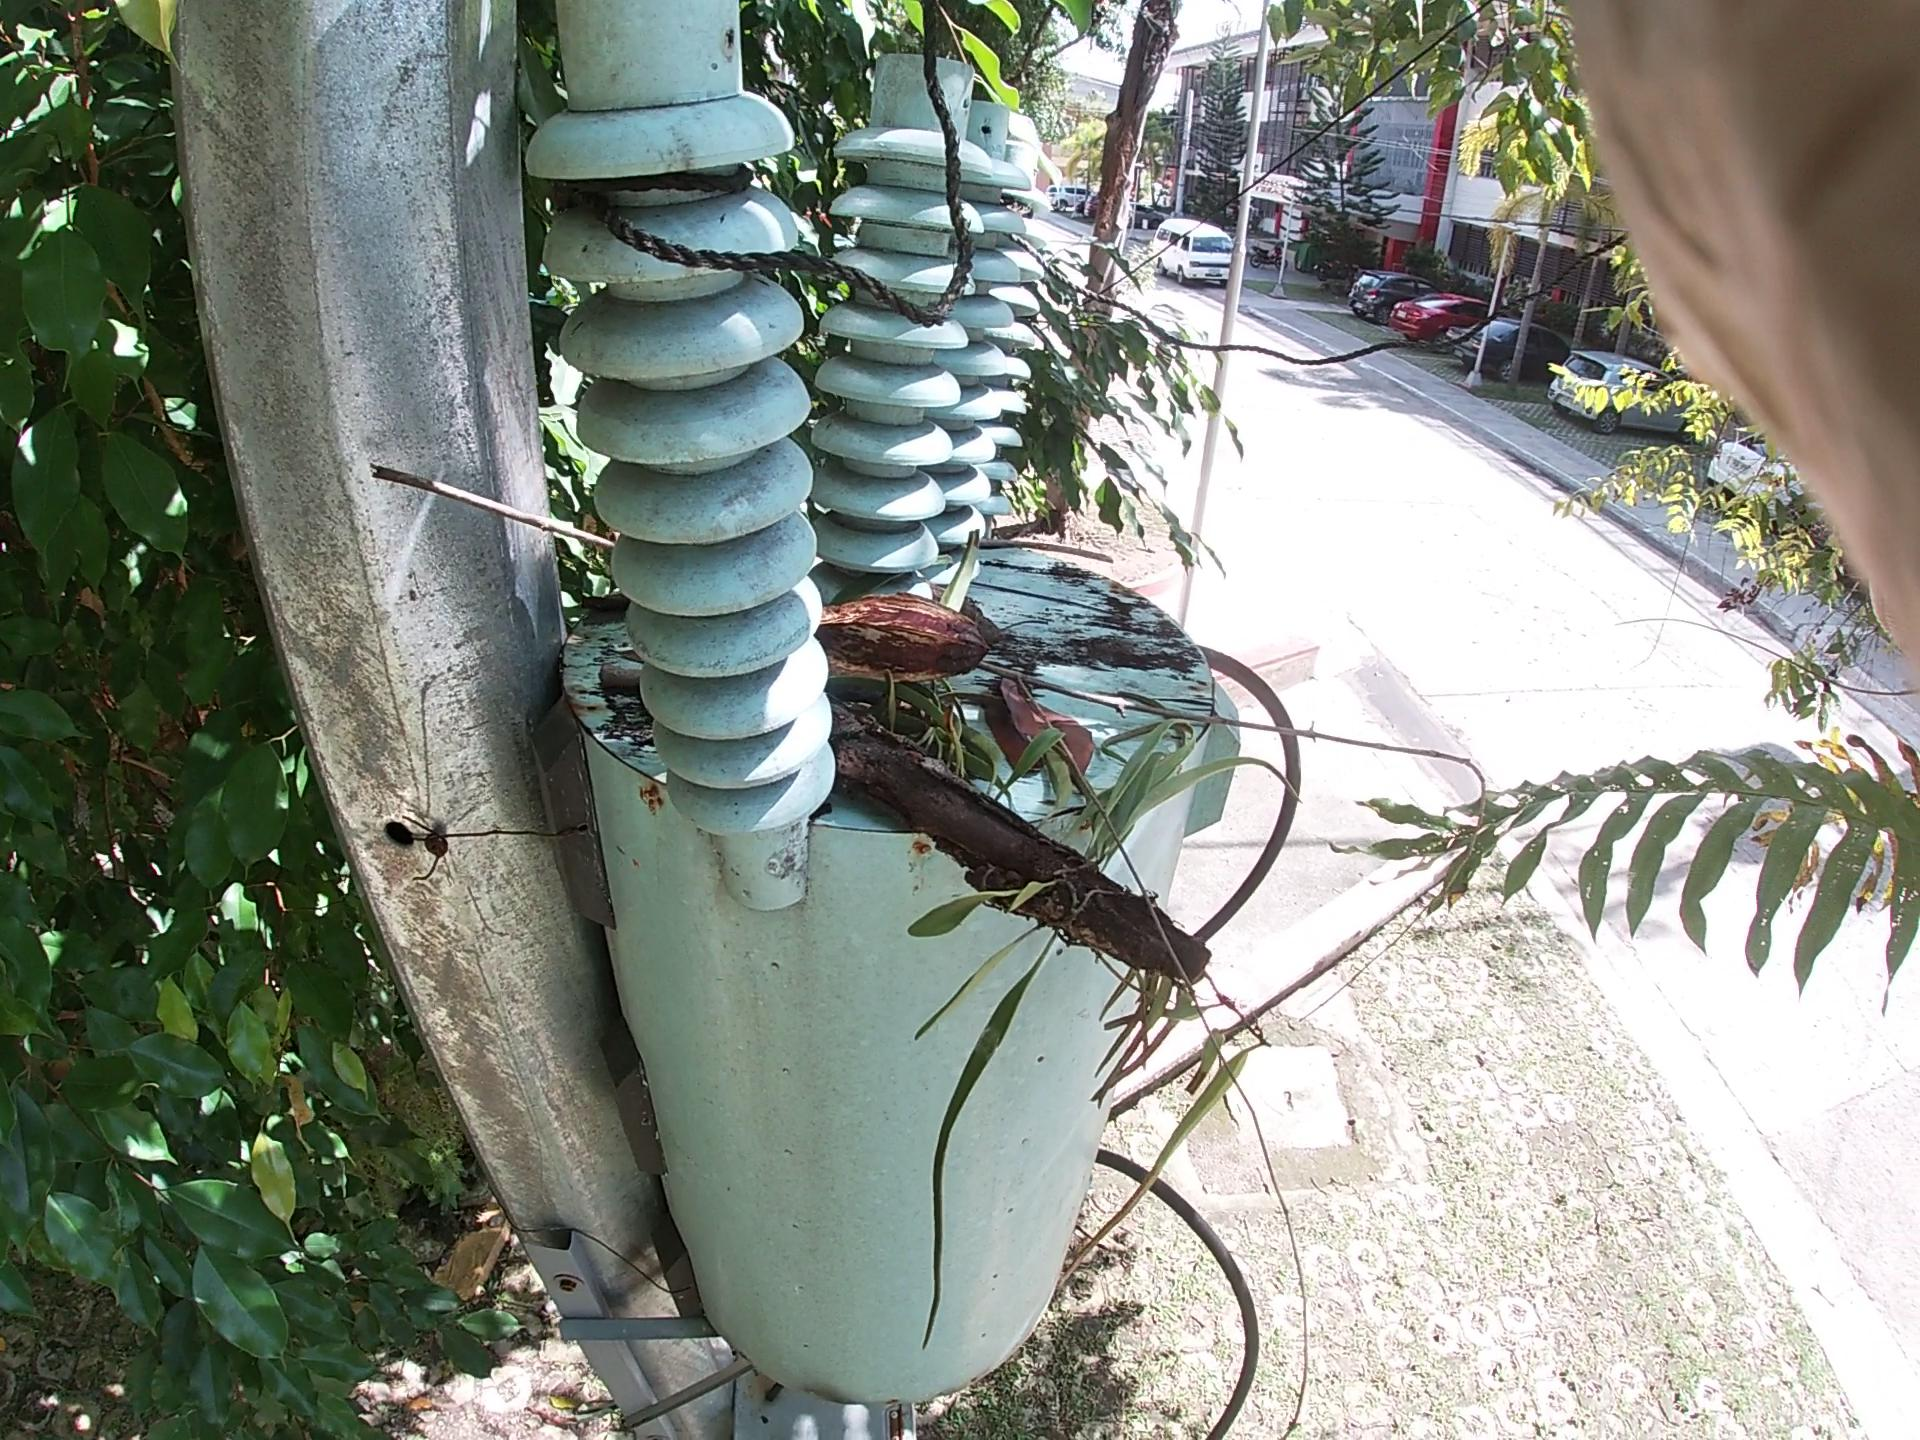branch with leaves: (703, 631, 1231, 1063)
mahogany fruit: (774, 535, 939, 700)
tree branch: (373, 445, 1578, 835), (963, 522, 1154, 593)
